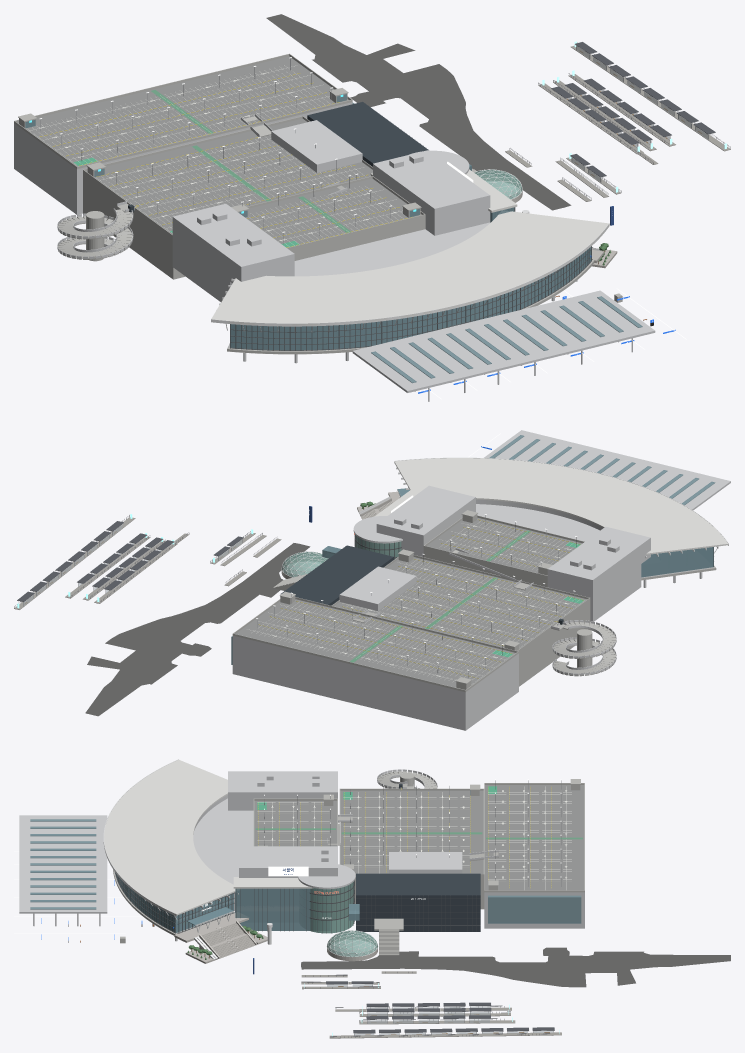
Rendered from existing_station.glb.
3 views of the same model, one above another, from view 1: azimuth 30°, elevation 25°; view 2: azimuth 150°, elevation 25°; view 3: azimuth 270°, elevation 25° (orthographic). The views are drawn at different scales.
Visible parts, largest first — view 1: PK_DeckCoating, SN_Fan_Roof, SN_Platform_Canopy, G_Area_plaza, SN_Fan_GlassShell, SN_Retail_Base, SN_Retail_WestTower, SN_Sign_Tower, M88_North_LotteMart, BTC_Islands, M88_Zettaplex_Facade, SN_Fan_CurtainGrid (+25 smaller); view 2: PK_DeckCoating, SN_Fan_Roof, M88_North_LotteMart, G_Area_plaza, SN_Platform_Canopy, SN_Retail_WestTower, SN_Sign_Tower, SN_Retail_Base, M88_Zettaplex_Facade, BTC_Islands, PK_Ramps, BTC_Shelter_Roofs (+23 smaller); view 3: PK_DeckCoating, SN_Fan_Roof, SN_Platform_Canopy, G_Area_plaza, M88_Zettaplex_Facade, SN_East_Atrium_Glass, SN_Retail_Base, SN_Retail_WestTower, M88_North_Parapet_Glass, BTC_Islands, SN_Sign_Tower, SN_Platform_Skylights (+32 smaller).
Boxes of the visible parts, x1,y1,x2,y2 form: PK_DeckCoating: (17, 56, 421, 244); SN_Fan_Roof: (211, 211, 609, 325); SN_Platform_Canopy: (352, 290, 655, 392); G_Area_plaza: (266, 14, 571, 210); SN_Fan_GlassShell: (230, 247, 591, 350); SN_Retail_Base: (172, 222, 490, 302); SN_Retail_WestTower: (172, 203, 294, 283); SN_Sign_Tower: (373, 150, 490, 235); M88_North_LotteMart: (14, 102, 352, 214); BTC_Islands: (505, 45, 730, 201); M88_Zettaplex_Facade: (307, 102, 428, 166); SN_Fan_CurtainGrid: (230, 246, 591, 350); PK_DeckCoating: (236, 517, 586, 689); SN_Fan_Roof: (394, 458, 728, 554); M88_North_LotteMart: (232, 635, 518, 730); G_Area_plaza: (85, 543, 310, 716); SN_Platform_Canopy: (484, 430, 730, 510); SN_Retail_WestTower: (547, 526, 650, 599); SN_Sign_Tower: (376, 485, 475, 556); SN_Retail_Base: (385, 504, 641, 621); M88_Zettaplex_Facade: (281, 545, 393, 605); BTC_Islands: (14, 517, 281, 609); PK_Ramps: (353, 550, 615, 676); BTC_Shelter_Roofs: (17, 521, 243, 601); PK_DeckCoating: (254, 785, 584, 890); SN_Fan_Roof: (103, 760, 235, 915); SN_Platform_Canopy: (19, 815, 107, 913); G_Area_plaza: (301, 947, 730, 987); M88_Zettaplex_Facade: (356, 873, 480, 931); SN_East_Atrium_Glass: (235, 888, 329, 930); SN_Retail_Base: (193, 798, 297, 911); SN_Retail_WestTower: (228, 771, 337, 810); M88_North_Parapet_Glass: (488, 895, 581, 923); BTC_Islands: (301, 971, 561, 1038); SN_Sign_Tower: (239, 846, 337, 877); SN_Platform_Skylights: (30, 819, 96, 909).
Size of the model in its own units: 313 by 35.3 by 392.
